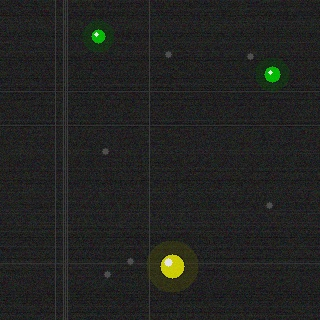green_normal: (262, 64, 282, 84), (89, 27, 107, 45)
yellow_warning: (158, 252, 186, 280)
